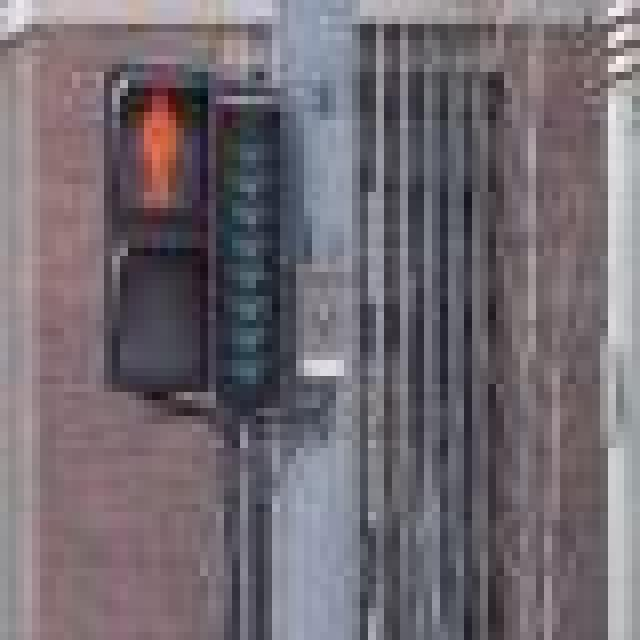redlight: (102, 74, 218, 406)
